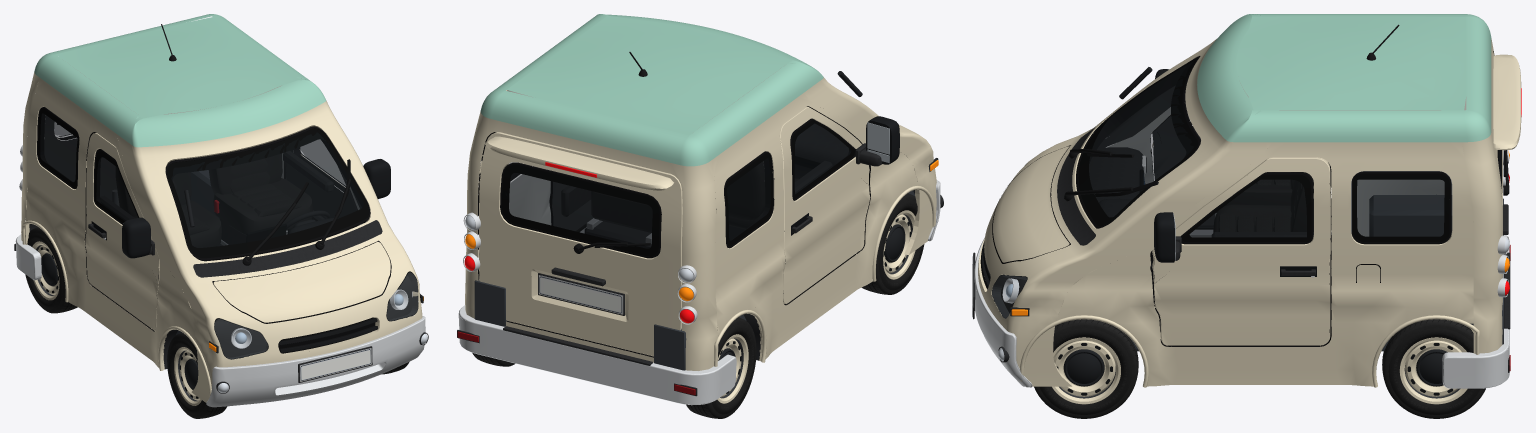
The model's file is two-tone-micro-car.glb.
3 renders of one model, left to right at view 1: azimuth 30°, elevation 25°; view 2: azimuth 150°, elevation 25°; view 3: azimuth 270°, elevation 25°, orthographic. The views are drawn at different scales.
Parts seen in each view (by area): view 1: Two_Tone_Micro_Car, Door_R, Door_L, Wheel_Front_R, Wheel_Rear_R, Tailgate; view 2: Two_Tone_Micro_Car, Tailgate, Door_R, Wheel_Front_R, Wheel_Rear_R, Door_L; view 3: Two_Tone_Micro_Car, Door_L, Wheel_Front_L, Wheel_Rear_L, Tailgate, Door_R.
Boxes of the visible parts, x1,y1,x2,y2 form: Two_Tone_Micro_Car: [14, 14, 428, 407]; Door_R: [85, 133, 159, 330]; Door_L: [283, 139, 390, 227]; Wheel_Front_R: [167, 332, 227, 418]; Wheel_Rear_R: [25, 227, 77, 313]; Tailgate: [44, 115, 116, 200]; Two_Tone_Micro_Car: [457, 14, 943, 405]; Tailgate: [479, 132, 682, 356]; Door_R: [779, 107, 899, 303]; Wheel_Front_R: [861, 193, 924, 294]; Wheel_Rear_R: [686, 317, 756, 418]; Door_L: [549, 176, 593, 230]; Two_Tone_Micro_Car: [972, 14, 1510, 388]; Door_L: [1152, 157, 1330, 345]; Wheel_Front_L: [1034, 319, 1138, 418]; Wheel_Rear_L: [1382, 319, 1485, 418]; Tailgate: [1493, 52, 1521, 234]; Door_R: [1152, 69, 1216, 227].
Bounding box in the file's own units: 1.91 × 1.9 × 2.82.
Materials: 53 (9 with a texture image).
